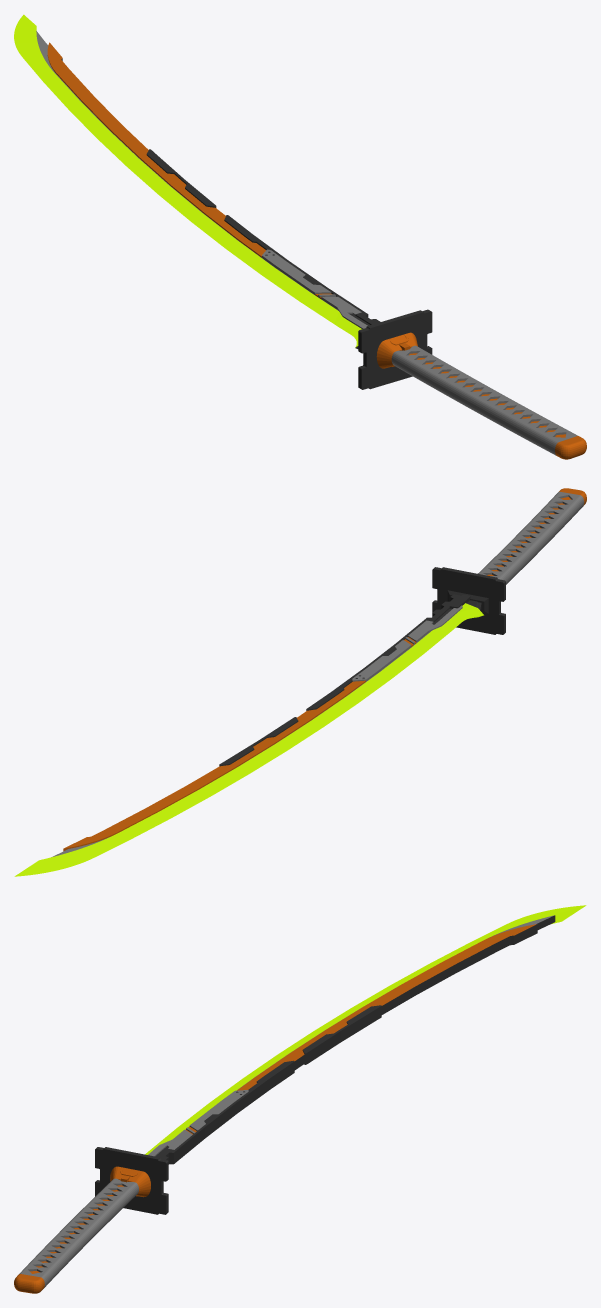
The model's file is sword.glb.
3 views of the same model, one above another, from view 1: azimuth 30°, elevation 25°; view 2: azimuth 150°, elevation 25°; view 3: azimuth 330°, elevation 25° (orthographic). The views are drawn at different scales.
Visible parts, largest first — view 1: sword; view 2: sword; view 3: sword.
Part boxes in pixels (<box>): sword: <box>14,14,586,459</box>; sword: <box>14,488,586,876</box>; sword: <box>14,905,586,1293</box>.
Size of the model in its own units: 0.1286 by 0.0731 by 1.28.
